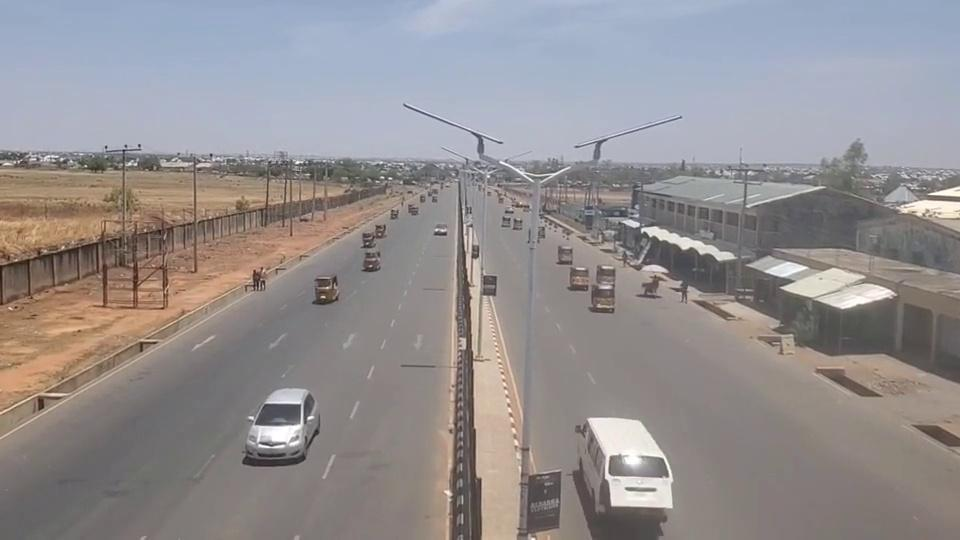bus: (579, 417, 675, 520)
car: (245, 387, 319, 460)
keke: (313, 274, 339, 303), (591, 283, 616, 313), (569, 266, 590, 290), (596, 264, 616, 286), (361, 250, 380, 271), (557, 245, 573, 264), (362, 231, 375, 247)
